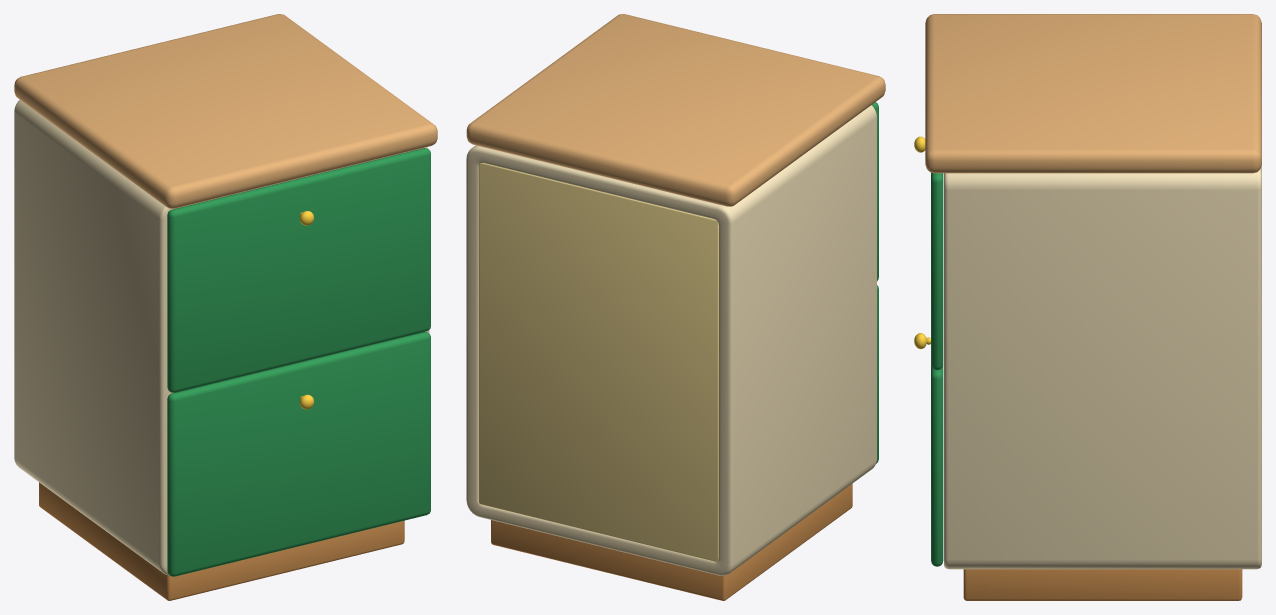
The model's file is gaveteiro_cozinha_largo_2gavetas_creme.glb.
3 views of the same model, side by side, from view 1: azimuth 30°, elevation 25°; view 2: azimuth 150°, elevation 25°; view 3: azimuth 270°, elevation 25° (orthographic). The views are drawn at different scales.
Visible parts, largest first — view 1: gaveteiro_cozinha_largo_2gavetas_creme, gaveta_1, gaveta_2; view 2: gaveteiro_cozinha_largo_2gavetas_creme; view 3: gaveteiro_cozinha_largo_2gavetas_creme, gaveta_2, gaveta_1.
Part boxes in pixels (x1=…): gaveteiro_cozinha_largo_2gavetas_creme: x1=14, y1=14, x2=437, y2=600; gaveta_1: x1=167, y1=148, x2=430, y2=392; gaveta_2: x1=167, y1=332, x2=430, y2=576; gaveteiro_cozinha_largo_2gavetas_creme: x1=466, y1=14, x2=885, y2=600; gaveteiro_cozinha_largo_2gavetas_creme: x1=925, y1=14, x2=1261, y2=600; gaveta_2: x1=914, y1=333, x2=943, y2=566; gaveta_1: x1=914, y1=136, x2=943, y2=370.
Bounding box in the file's own units: 0.598 × 0.9 × 0.619.
1 material, 1 textured.
